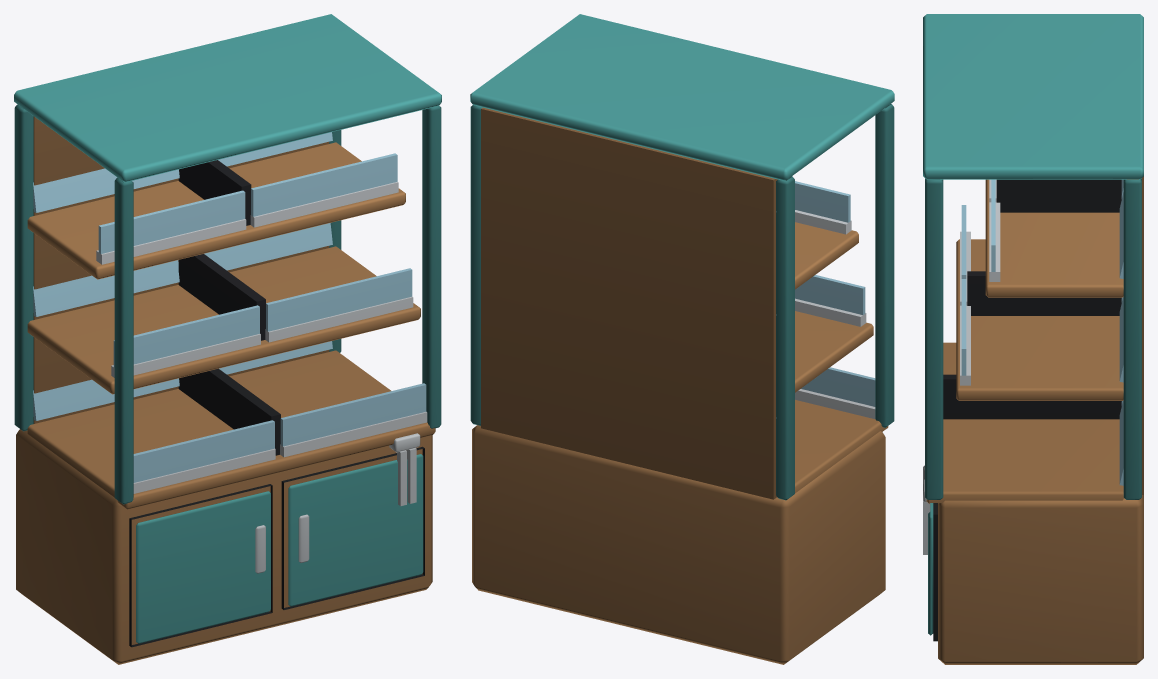
Rendered from BakeryCase_SelfServe_10.glb.
3 views of the same model, side by side, from view 1: azimuth 30°, elevation 25°; view 2: azimuth 150°, elevation 25°; view 3: azimuth 270°, elevation 25° (orthographic).
Parts seen in each view (by area): view 1: SM_BakeryCase_SelfServe_10; view 2: SM_BakeryCase_SelfServe_10; view 3: SM_BakeryCase_SelfServe_10.
Boxes of the visible parts, x1=… form: SM_BakeryCase_SelfServe_10: x1=14, y1=14, x2=441, y2=664; SM_BakeryCase_SelfServe_10: x1=470, y1=14, x2=894, y2=664; SM_BakeryCase_SelfServe_10: x1=923, y1=14, x2=1143, y2=664.
Bounding box in the file's own units: 1 × 1.5 × 0.6.
1 material, 1 textured.
